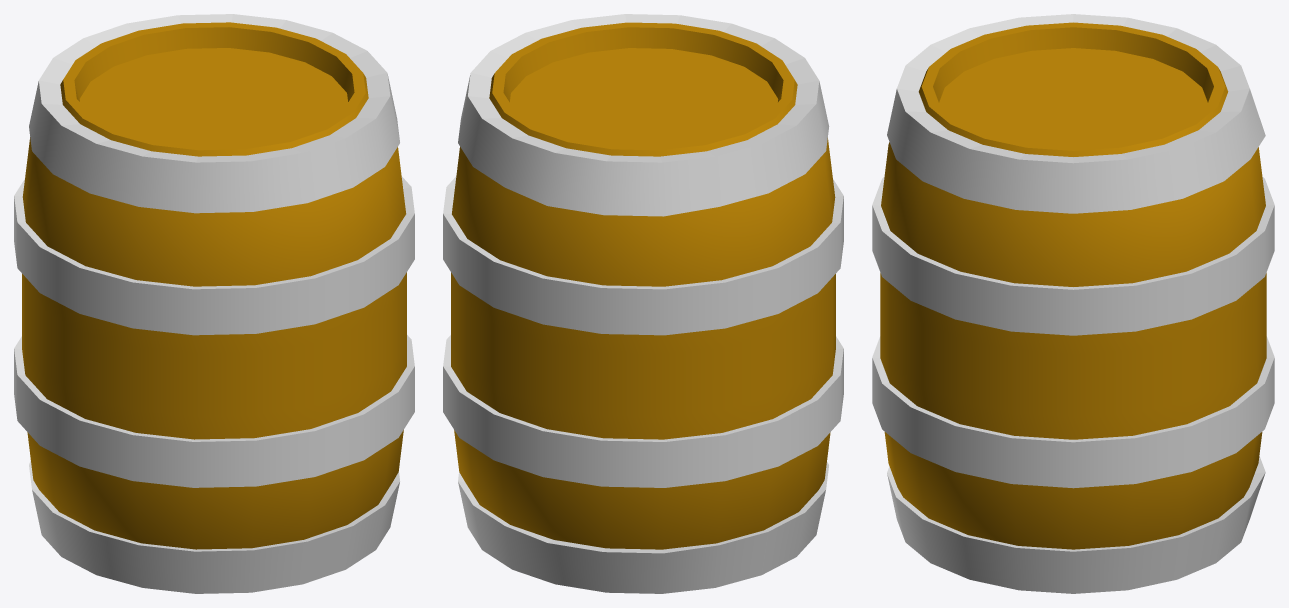
Rendered from barrel.fbx.
3 views of the same model, side by side, from view 1: azimuth 30°, elevation 25°; view 2: azimuth 150°, elevation 25°; view 3: azimuth 270°, elevation 25° (orthographic).
Parts seen in each view (by area): view 1: main, ring; view 2: main, ring; view 3: main, ring.
Part boxes in pixels (x1,y1,x2,y2): main: (22, 22, 406, 549); ring: (14, 14, 414, 593); main: (451, 22, 835, 549); ring: (443, 14, 843, 593); main: (880, 22, 1266, 549); ring: (872, 14, 1274, 593).
Size of the model in its own units: 10.39 by 12.38 by 10.39.
